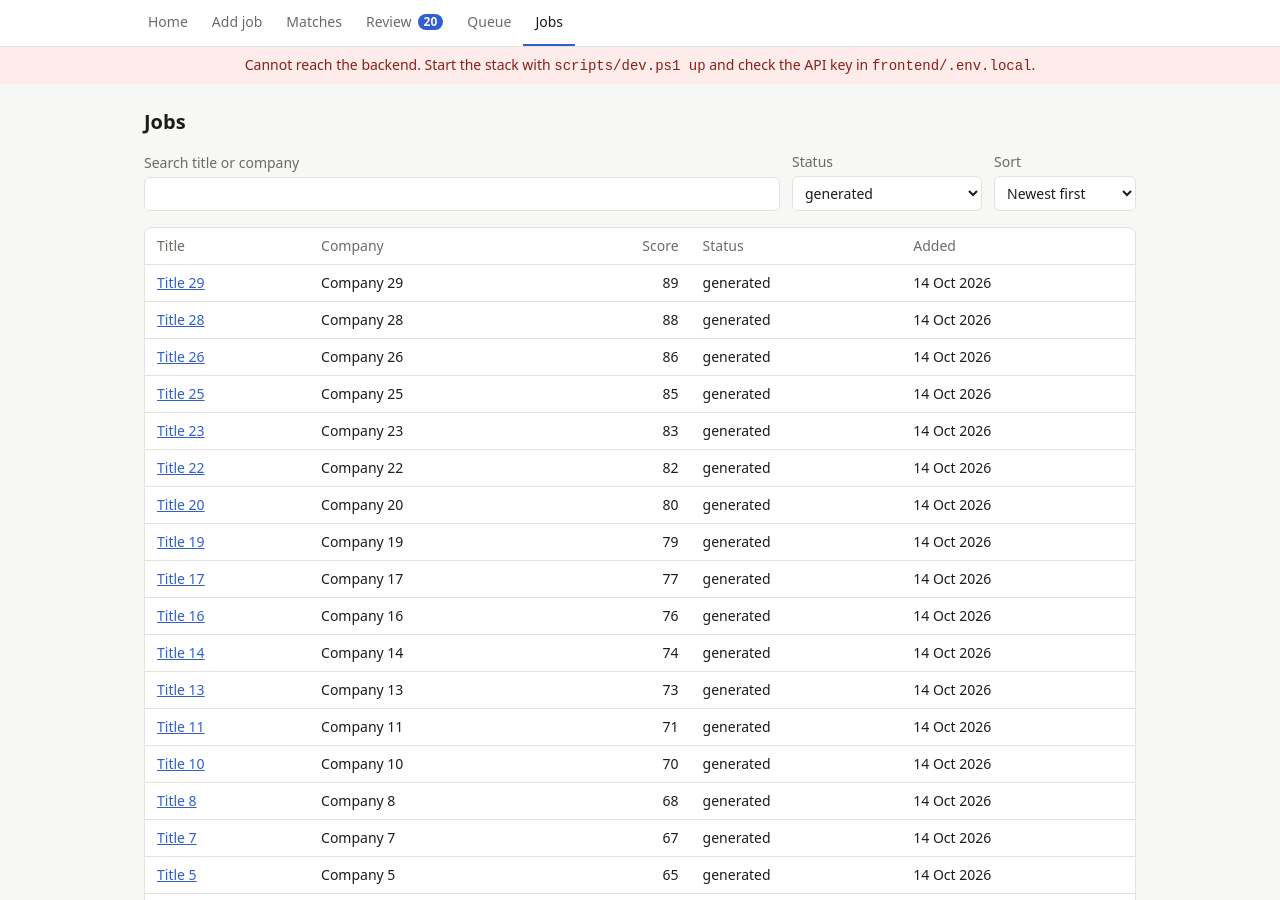
Scenario: Jobs tab › opens a posting with its analysis, documents and history, and goes back
The image size is (1280, 900).
Click the link "Title 29" at (181, 282), box [157, 273, 205, 292]
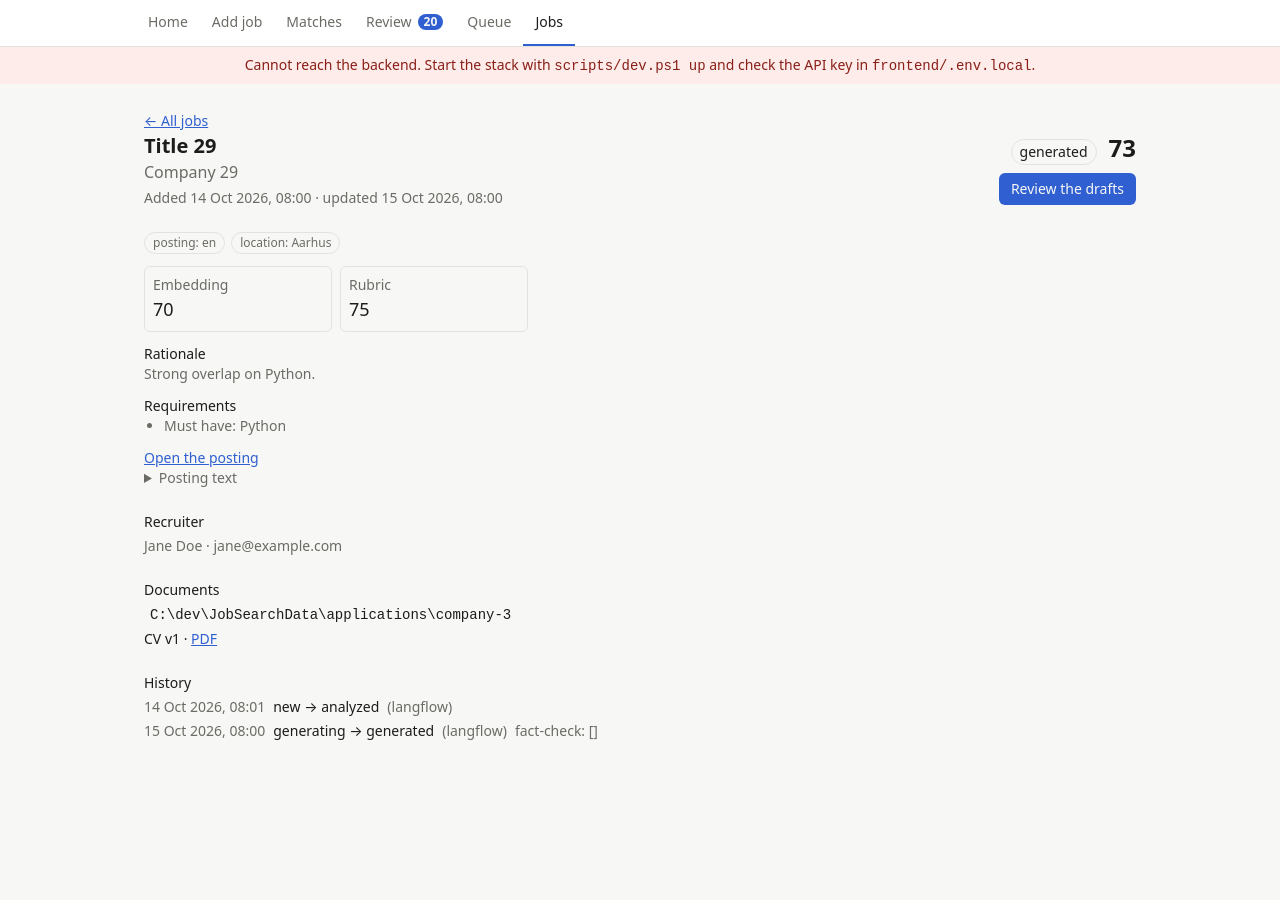
Expected: the heading "Title 29" is shown, [144, 132, 216, 159]
Expected: the text "Strong overlap on Python." is shown, [144, 364, 315, 383]
Expected: the text "Jane Doe · jane@example.com" is shown, [144, 536, 342, 555]
Click the link "← All jobs" at (176, 120), box [144, 111, 208, 130]
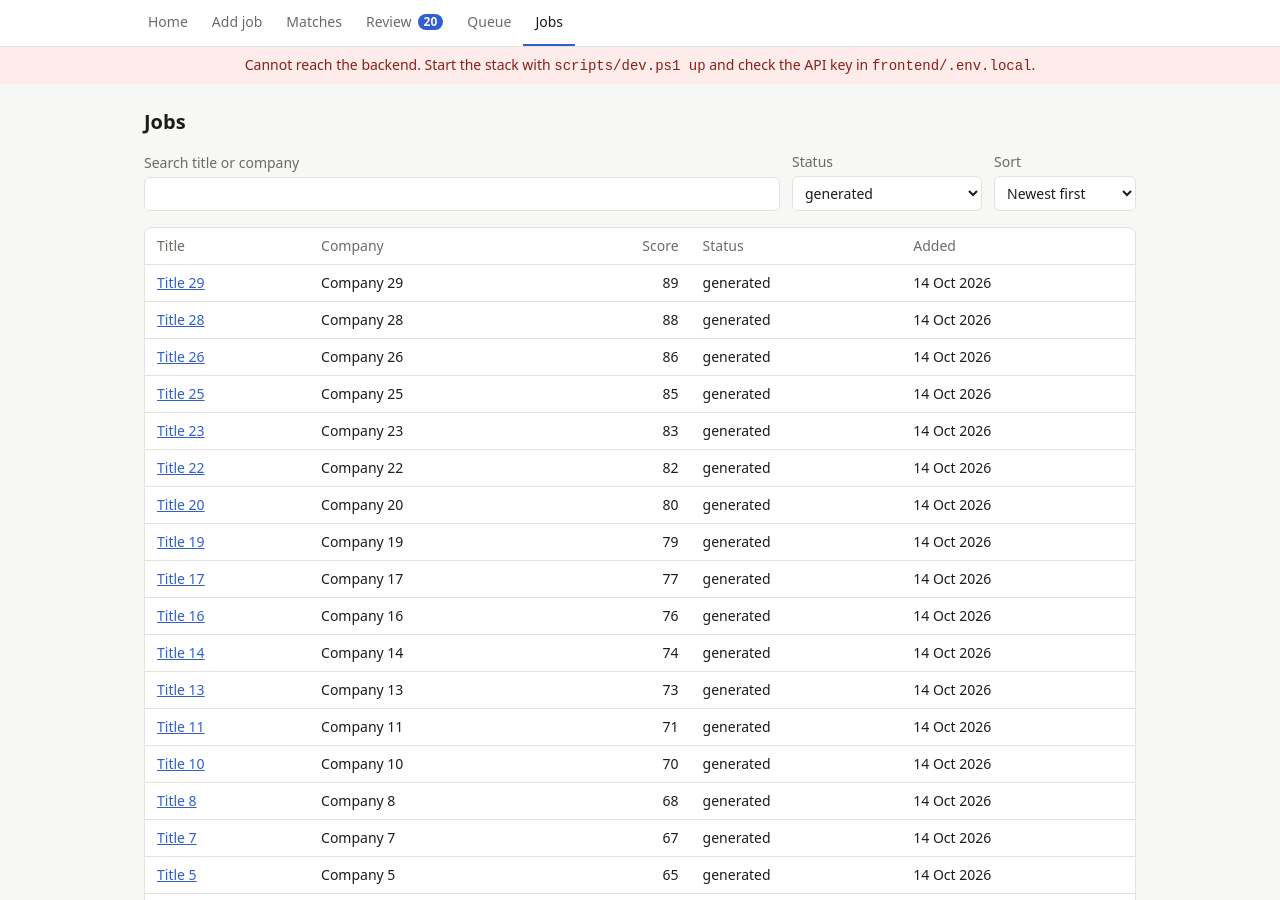
Expected: the dropdown labelled "Status" shows "generated", [792, 176, 982, 211]
